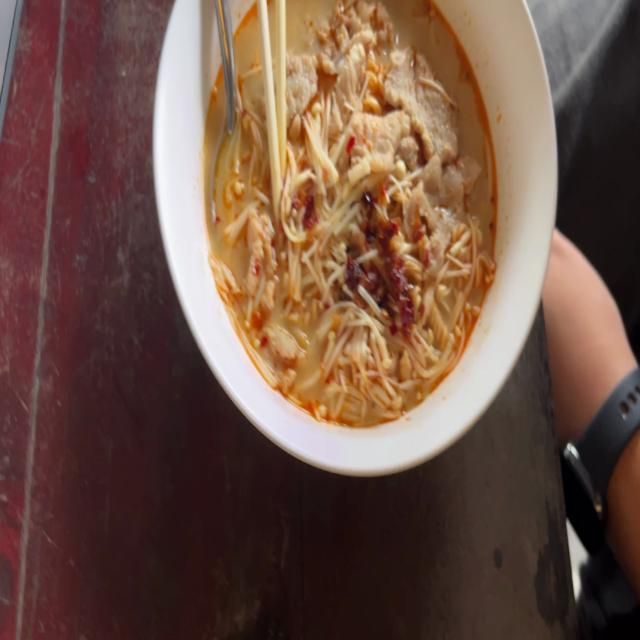noodle: (196, 0, 509, 426)
